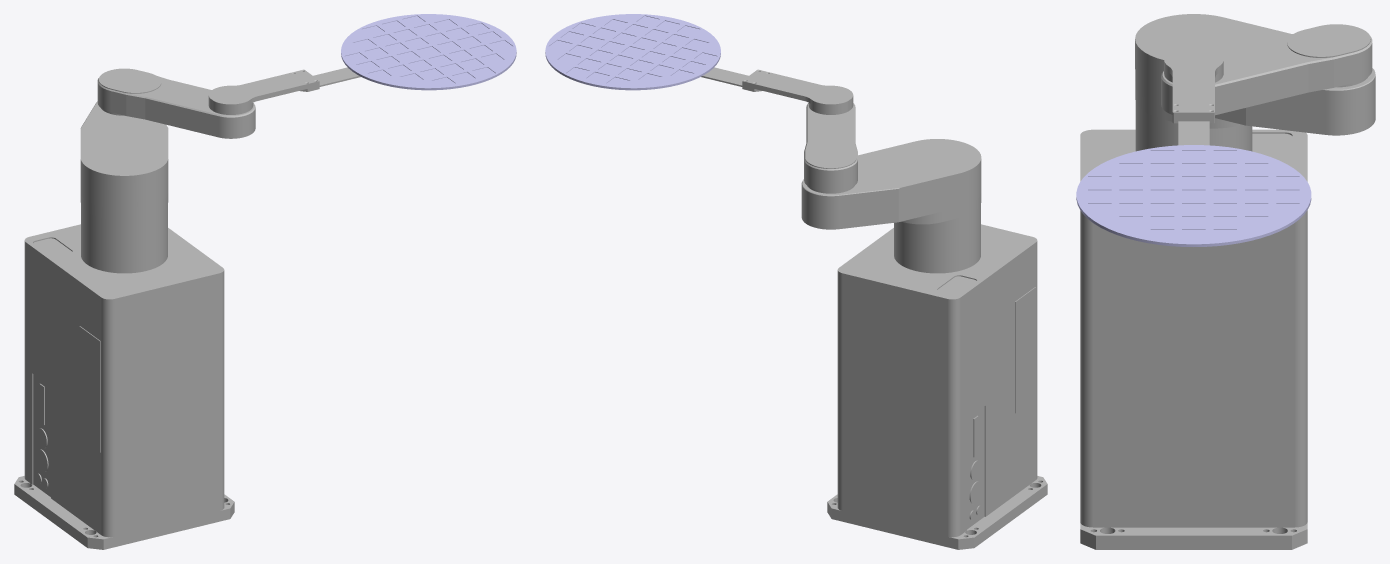
The model's file is RobotArm.fbx.
3 renders of one model, left to right at view 1: azimuth 30°, elevation 25°; view 2: azimuth 150°, elevation 25°; view 3: azimuth 270°, elevation 25°, orthographic. The views are drawn at different scales.
Parts seen in each view (by area): view 1: BODY, ETC_Wafer, ARM1, ARM2, PIPE, WRIST-BLOCK; view 2: BODY, ARM1, ETC_Wafer, PIPE, ARM2, WRIST-BLOCK; view 3: BODY, ETC_Wafer, ARM1, ARM2, WRIST-BLOCK, PIPE, END-EFFECTOR.
Part boxes in pixels (x1,y1,x2,y2): BODY: [14, 224, 234, 549]; ETC_Wafer: [341, 14, 516, 90]; ARM1: [80, 101, 168, 220]; ARM2: [97, 68, 255, 138]; PIPE: [81, 205, 167, 273]; WRIST-BLOCK: [208, 69, 319, 114]; BODY: [827, 224, 1047, 549]; ARM1: [801, 139, 981, 229]; ETC_Wafer: [545, 14, 720, 90]; PIPE: [894, 204, 980, 273]; ARM2: [804, 103, 857, 191]; WRIST-BLOCK: [742, 69, 853, 114]; BODY: [1080, 129, 1307, 549]; ETC_Wafer: [1076, 145, 1311, 246]; ARM1: [1135, 14, 1375, 135]; ARM2: [1161, 24, 1372, 115]; WRIST-BLOCK: [1164, 47, 1223, 118]; PIPE: [1135, 101, 1252, 151]; END-EFFECTOR: [1178, 121, 1209, 145].
Bounding box in the file's own units: 89.5 × 72.05 × 38.15.
